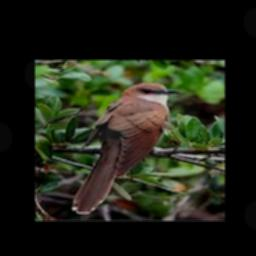Cuckoo: (72, 83, 180, 214)
